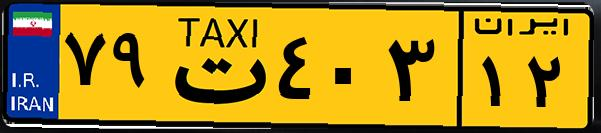0: (330, 28, 385, 110)
1: (475, 38, 525, 113)
2: (525, 38, 570, 115)
3: (385, 28, 445, 110)
4: (270, 28, 330, 110)
7: (57, 26, 110, 100)
9: (110, 28, 158, 98)
ت: (158, 12, 270, 120)
